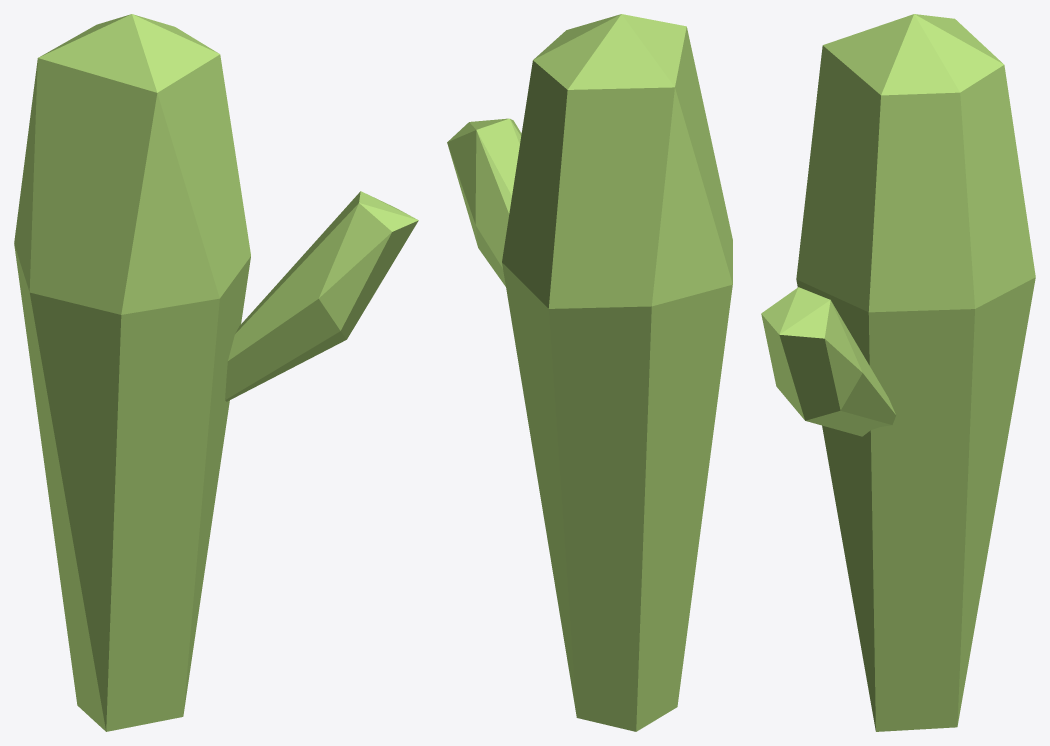
Rendered from cactus1.fbx.
The picture shows the model from 3 angles, left to right: view 1: azimuth 30°, elevation 25°; view 2: azimuth 150°, elevation 25°; view 3: azimuth 270°, elevation 25°; orthographic projection.
Parts seen in each view (by area): view 1: Cactus_a_m_04; view 2: Cactus_a_m_04; view 3: Cactus_a_m_04.
Boxes of the visible parts, x1=… form: Cactus_a_m_04: x1=14, y1=14, x2=418, y2=731; Cactus_a_m_04: x1=447, y1=14, x2=732, y2=731; Cactus_a_m_04: x1=761, y1=14, x2=1035, y2=731.
Size of the model in its own units: 71.76 by 99.39 by 203.
Materials: 1 (1 with a texture image).
